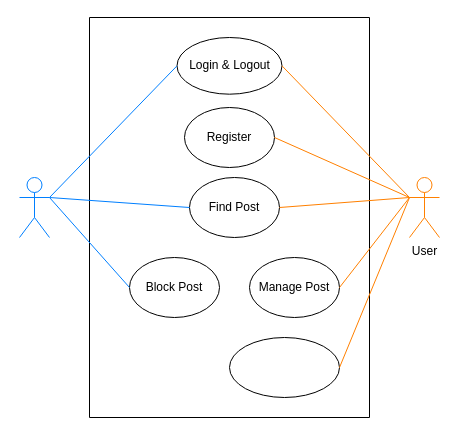
Image size: 457x435. Some labels were removed from this diagram. The shapes that lost their labels are listed below. From the top down, each one's centre as x and y in pixels, then its label:
At (34,207): "Admin".
At (284,367): "Like & Comment Post".
